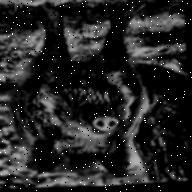boar: (2, 2, 173, 186)
